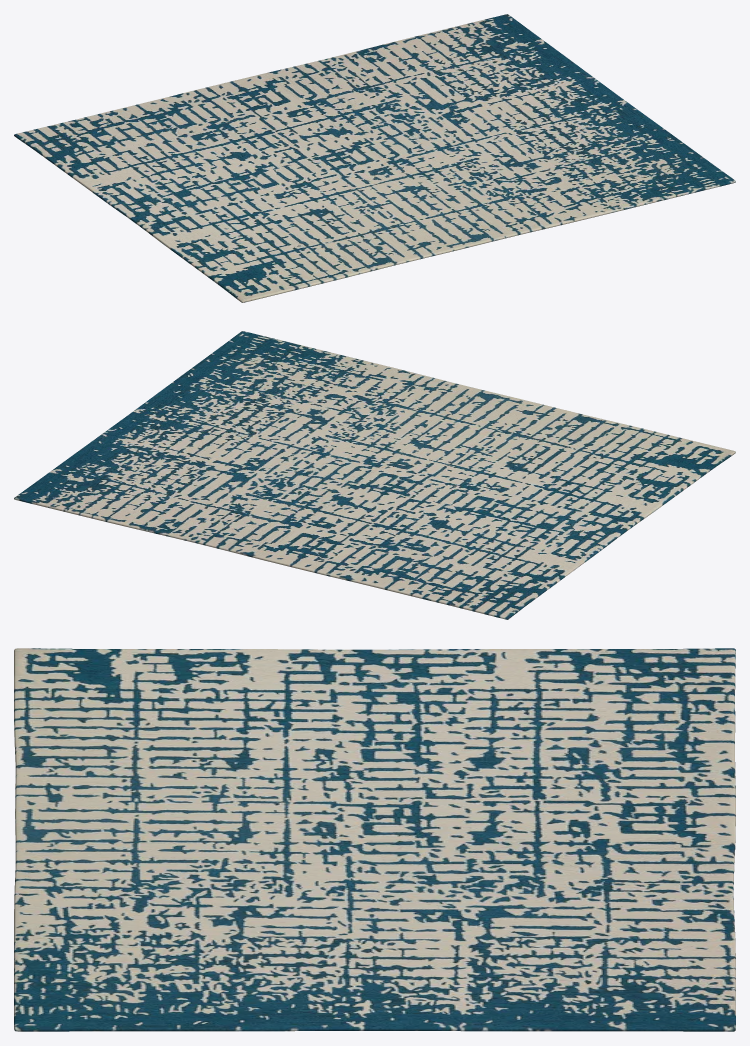
File: B07QGG3PVY.glb
The picture shows the model from 3 angles, top to bottom: view 1: azimuth 30°, elevation 25°; view 2: azimuth 150°, elevation 25°; view 3: azimuth 270°, elevation 25°; orthographic projection. The views are drawn at different scales.
Visible parts, largest first — view 1: RootNode; view 2: RootNode; view 3: RootNode.
Part boxes in pixels (left/top/right/bottom): RootNode: left=14, top=14, right=735, bottom=302; RootNode: left=14, top=331, right=735, bottom=619; RootNode: left=14, top=648, right=735, bottom=1031.
Size of the model in its own units: 3.02 by 0.0139 by 2.42.
1 material, 1 textured.
